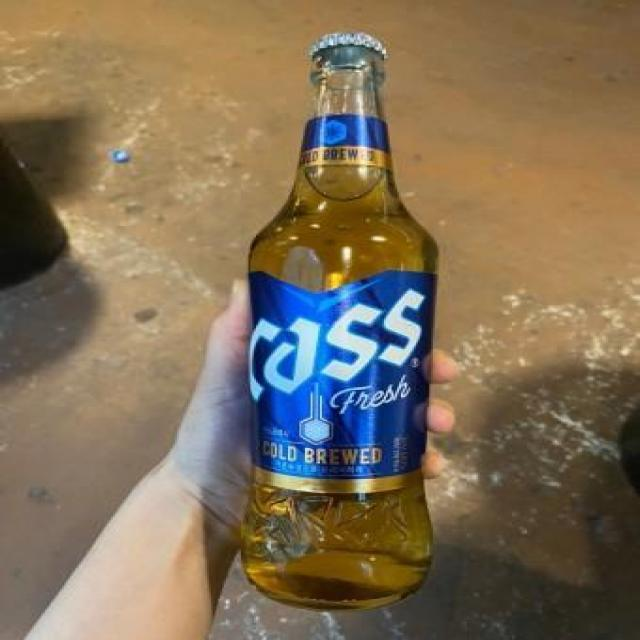beer-bottle: (224, 31, 467, 608)
